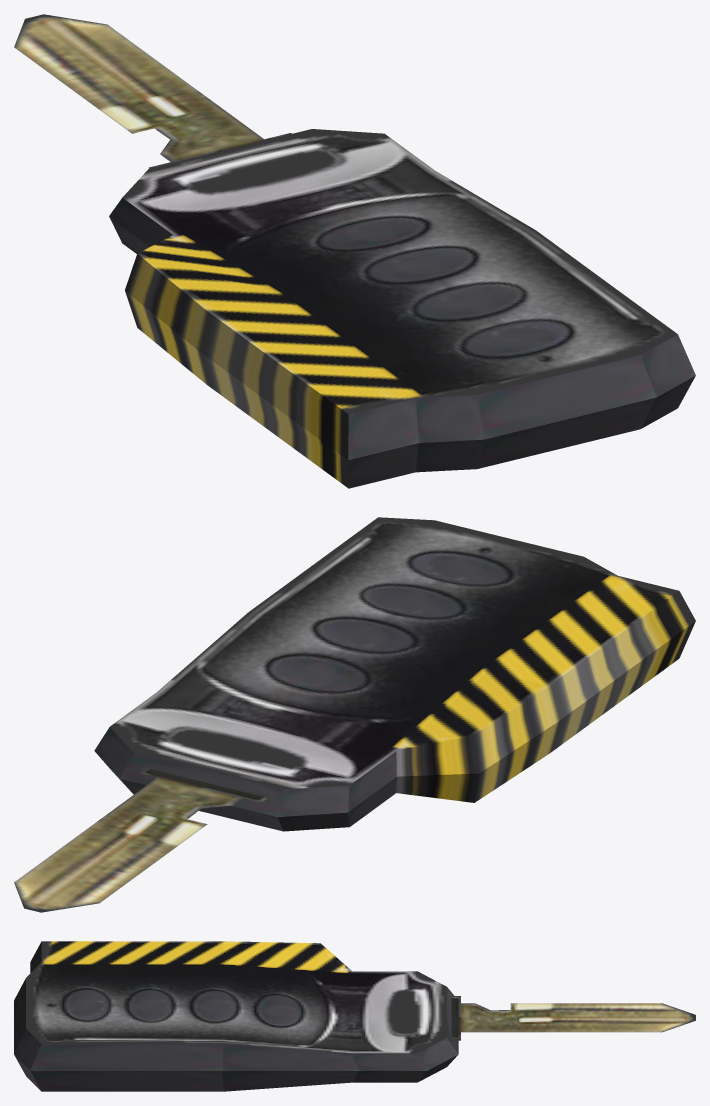
Rendered from key_power.fbx.
3 views of the same model, one above another, from view 1: azimuth 30°, elevation 25°; view 2: azimuth 150°, elevation 25°; view 3: azimuth 270°, elevation 25° (orthographic). The views are drawn at different scales.
Visible parts, largest first — view 1: key_power; view 2: key_power; view 3: key_power.
Boxes of the visible parts, box(x1,y1,x2,y2) form: key_power: box(14, 14, 695, 488); key_power: box(14, 517, 695, 912); key_power: box(14, 941, 695, 1091).
Size of the model in its own units: 10.56 by 2.15 by 27.98.
1 material, 1 textured.
